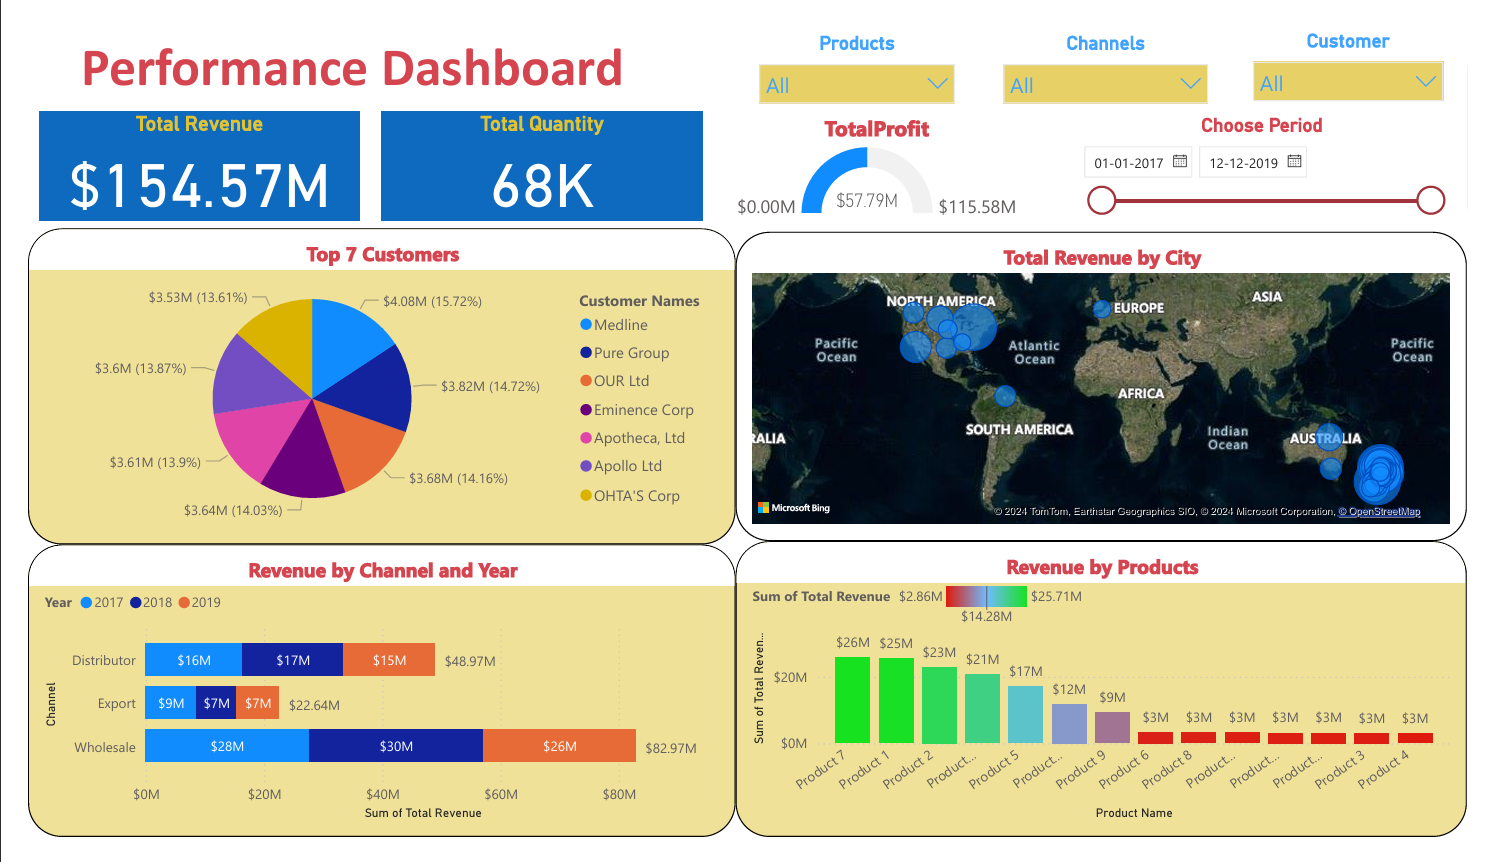

Layout of this report page (visuals, bound fields, positions):
{"tool":"powerbi","page":{"name":"Page 1","canvas":[1280,720],"ordinal":0},"visuals":[{"type":"barChart","title":"Revenue by Channel and Year","fields":{"Category":["Sales_Data.Channel"],"Y":["Sum(Sales_Data.Total Revenue)"],"Series":["Sales_Data.OrderDate.Variation.Date Hierarchy.Year"]},"box":[0,459.8,628.5,260.5],"z":0},{"type":"columnChart","title":"Revenue by Products","fields":{"Category":["Products_Data.Product Name"],"Y":["Sum(Sales_Data.Total Revenue)"]},"box":[629,457,650,263],"z":1000},{"type":"pieChart","title":"Top 7 Customers","fields":{"Category":["Customer_Data.Customer Names"],"Y":["Sum(Sales_Data.Total Revenue)"]},"box":[0,178.5,628.5,281.3],"z":2000},{"type":"map","title":"Total Revenue by City","fields":{"Category":["Regions_Table.City"],"Size":["Sum(Sales_Data.Total Revenue)"]},"box":[628.5,182.2,650.5,275.1],"z":3000},{"type":"card","title":"Total Revenue","fields":{"Values":["Sum(Sales_Data.Total Revenue)"]},"box":[9.8,74.6,284.9,97.8],"z":4000},{"type":"card","title":"Total Quantity","fields":{"Values":["Sum(Sales_Data.Order Quantity)"]},"box":[314.3,74.6,286.1,97.8],"z":5000},{"type":"gauge","title":"TotalProfit","fields":{"Y":["Sum(Sales_Data.Profit)"]},"box":[618.8,77,271.5,97.8],"z":6000},{"type":"slicer","title":"Choose Period","fields":{"Values":["Sales_Data.OrderDate"]},"box":[925.7,77,342.4,96.6],"z":7000},{"type":"slicer","title":"Customer","fields":{"Values":["Customer_Data.Customer Names"]},"box":[1078.5,0,189.5,70.9],"z":8000},{"type":"slicer","title":"Channels","fields":{"Values":["Sales_Data.Channel"]},"box":[857.2,3.7,201.8,67.3],"z":9000},{"type":"slicer","title":"Products","fields":{"Values":["Products_Data.Product Name"]},"box":[639.5,3.7,194.4,67.3],"z":10000},{"type":"textbox","box":[11,1.2,555.2,69.7],"z":11000}]}

Visuals, with their boxes in screenshot pixels (x1, y1, x2, y2), scaled from the page's 1280x720 canvas onto the 1493x862 screenshot:
"Revenue by Channel and Year" barChart: detection(0, 550, 733, 861)
"Revenue by Products" columnChart: detection(734, 547, 1492, 861)
"Top 7 Customers" pieChart: detection(0, 214, 733, 550)
"Total Revenue by City" map: detection(733, 218, 1492, 547)
"Total Revenue" card: detection(11, 89, 344, 206)
"Total Quantity" card: detection(367, 89, 700, 206)
"TotalProfit" gauge: detection(722, 92, 1038, 209)
"Choose Period" slicer: detection(1080, 92, 1479, 208)
"Customer" slicer: detection(1258, 0, 1479, 85)
"Channels" slicer: detection(1000, 4, 1235, 85)
"Products" slicer: detection(746, 4, 973, 85)
textbox: detection(13, 1, 660, 85)
